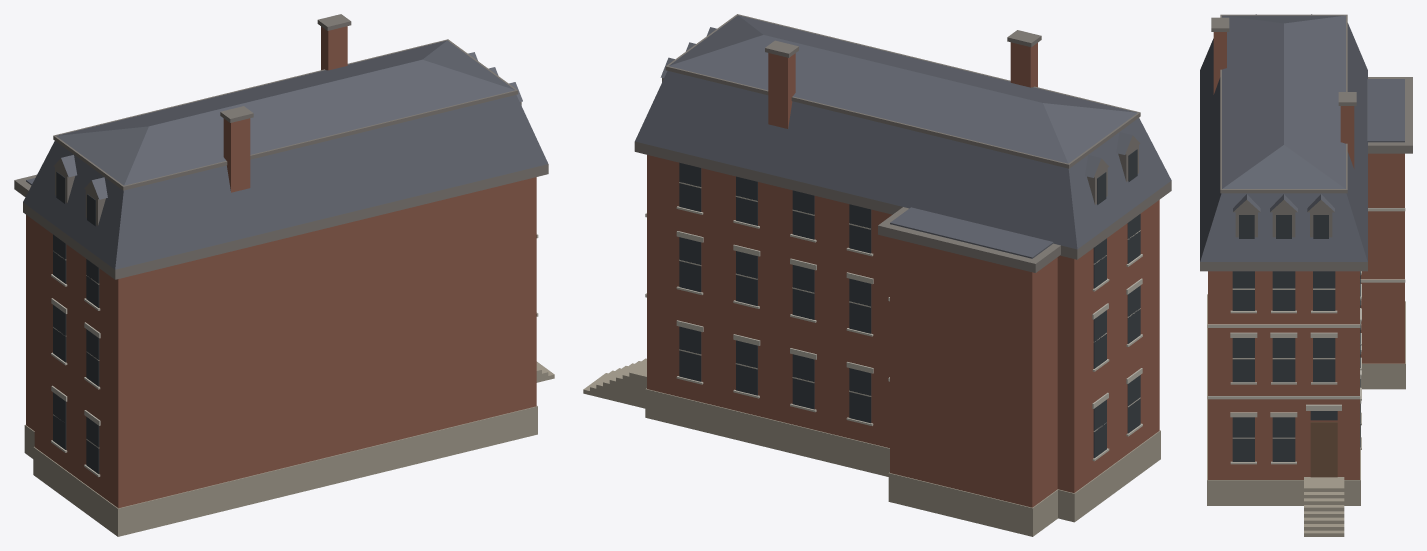
File: house_1625_prairie__draft_1904.glb
3 views of the same model, side by side, from view 1: azimuth 30°, elevation 25°; view 2: azimuth 150°, elevation 25°; view 3: azimuth 270°, elevation 25° (orthographic). The views are drawn at different scales.
Visible parts, largest first — view 1: house_1625_prairie__draft_1904; view 2: house_1625_prairie__draft_1904; view 3: house_1625_prairie__draft_1904.
Part boxes in pixels (left/top/right/bottom): house_1625_prairie__draft_1904: left=14, top=14, right=554, bottom=536; house_1625_prairie__draft_1904: left=583, top=14, right=1171, bottom=536; house_1625_prairie__draft_1904: left=1200, top=14, right=1412, bottom=536.
Bounding box in the file's own units: 23.15 × 17.29 × 9.45.
